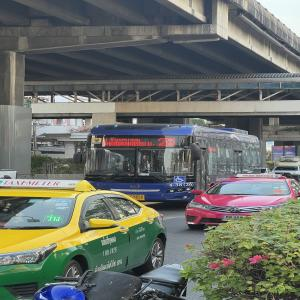Bus Line Number: (156, 136, 177, 147)
Bus Side Number: (168, 182, 195, 188)
Destination Sign: (102, 136, 156, 147)
TSB-Bus: (85, 124, 260, 201)
